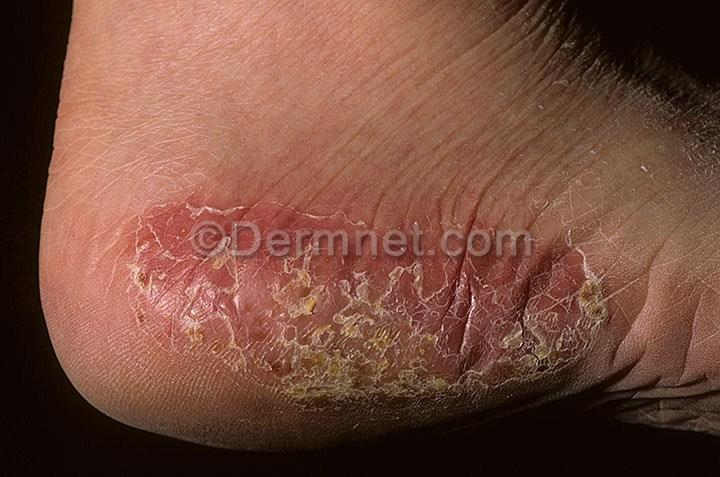Eczema: (113, 139, 629, 411)
